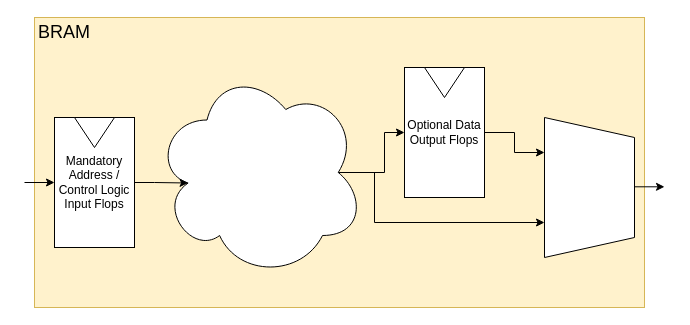
Image size: 690x325. Some labels were removed from this diagram. The centre of each missing label's shape, as x and y in pixels:
Mux Fixed At FPGA Configuration Time: (x=589, y=187)
SRAM Address Decoding and Read Logic (Modeled as Combinatorial Logic): (x=259, y=172)
